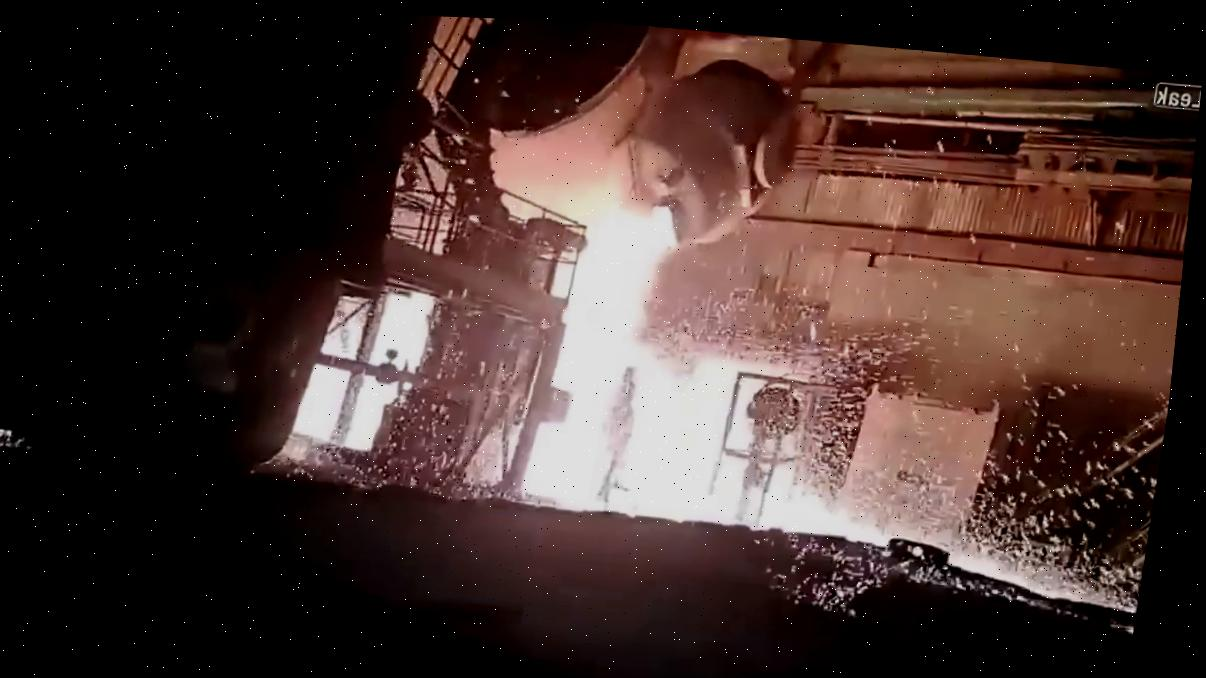fire: (158, 36, 1122, 578)
